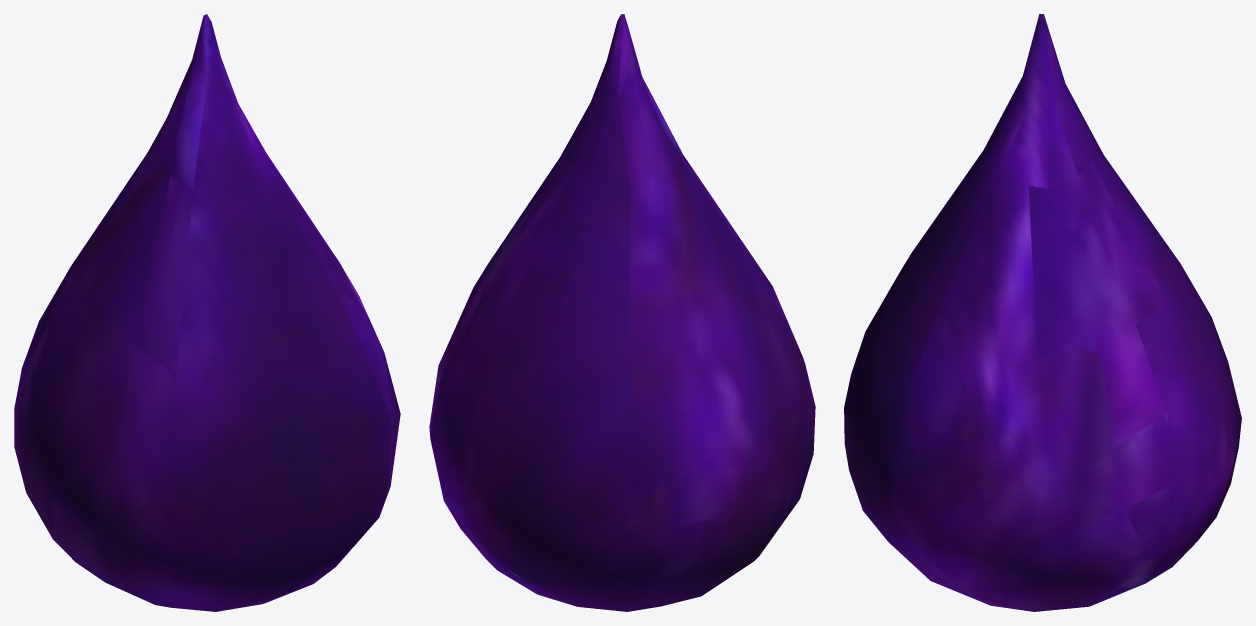
Rendered from drop.glb.
The picture shows the model from 3 angles, left to right: view 1: azimuth 30°, elevation 25°; view 2: azimuth 150°, elevation 25°; view 3: azimuth 270°, elevation 25°; orthographic projection.
Parts seen in each view (by area): view 1: tripo_node_477e8b9f; view 2: tripo_node_477e8b9f; view 3: tripo_node_477e8b9f.
Boxes of the visible parts, bbox=[...] form: tripo_node_477e8b9f: bbox=[14, 14, 400, 611]; tripo_node_477e8b9f: bbox=[429, 14, 815, 611]; tripo_node_477e8b9f: bbox=[844, 14, 1241, 611].
Bounding box in the file's own units: 0.5872 × 0.9778 × 0.6104.
Materials: 1 (1 with a texture image).
